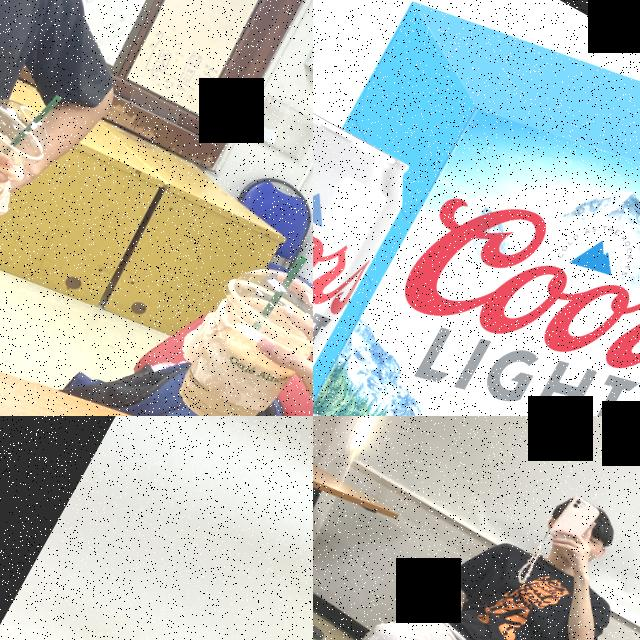can: (313, 81, 423, 416)
cup: (163, 250, 313, 416), (0, 74, 59, 226)
